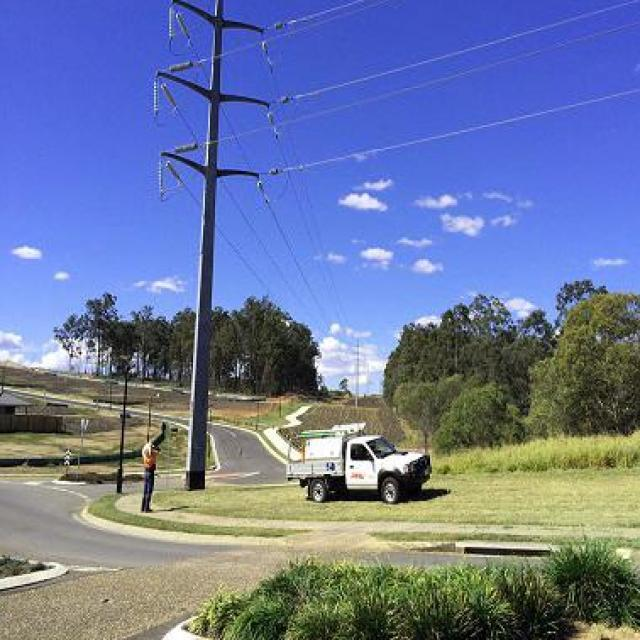non-critical vegetation: (137, 0, 298, 491)
